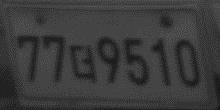0: (173, 38, 202, 88)
1: (147, 36, 176, 87)
5: (123, 36, 149, 85)
7: (41, 33, 68, 83), (15, 33, 41, 82)
9: (95, 34, 121, 84)
더: (68, 42, 98, 85)
